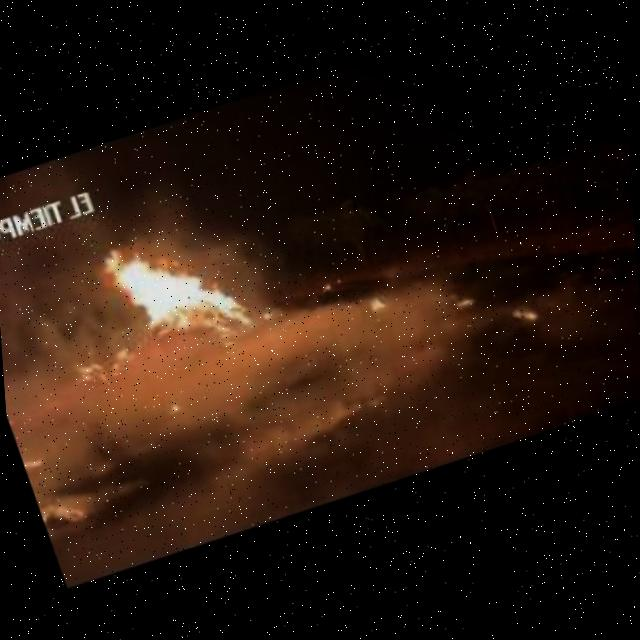fire: (93, 211, 256, 372), (23, 475, 79, 525), (64, 342, 127, 386)
